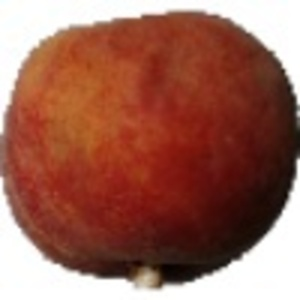pêssego: (1, 8, 300, 293)
